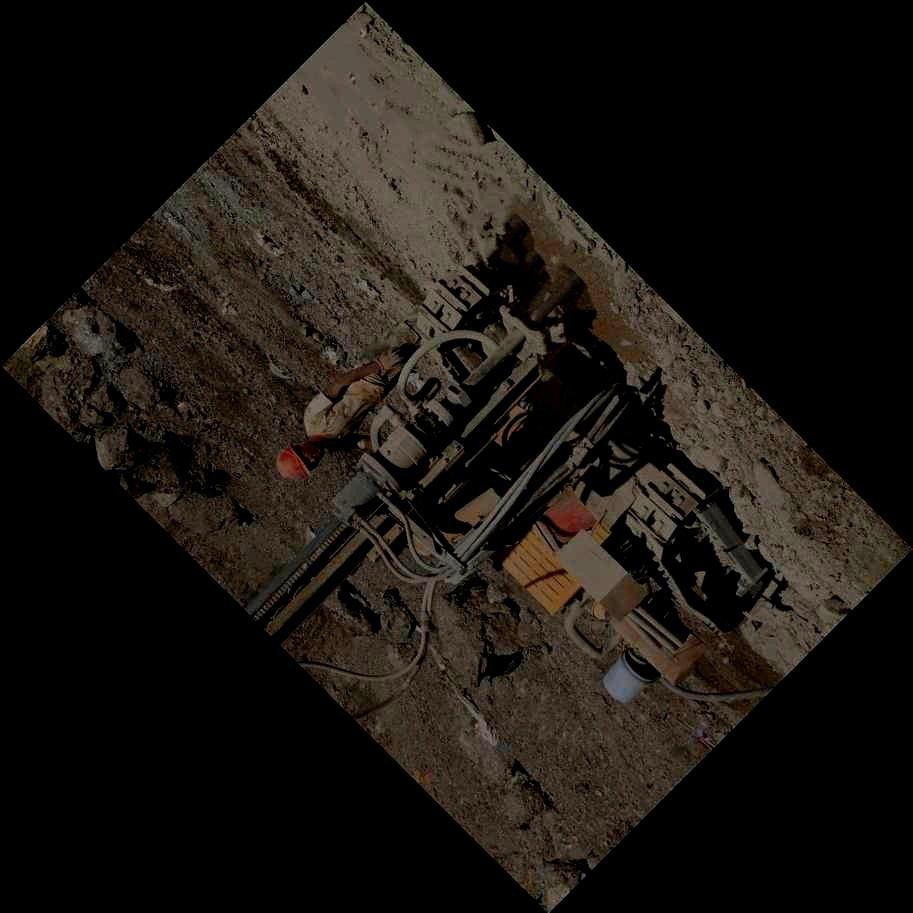helmet: (276, 438, 324, 481)
